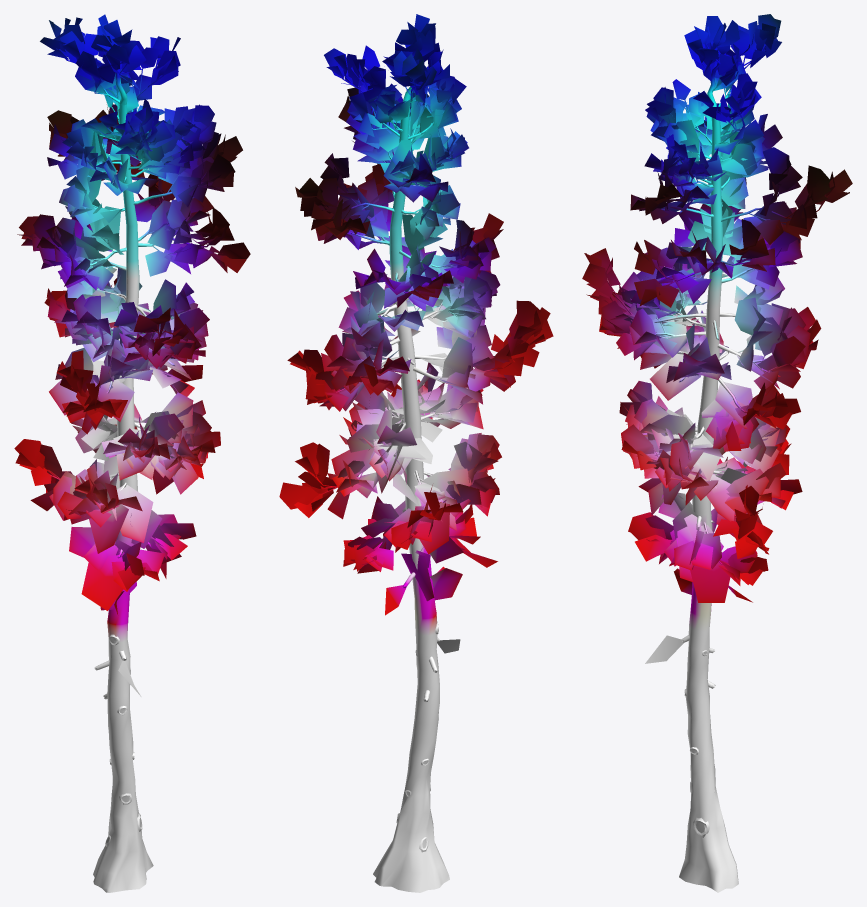
The model's file is arden_forest_conifer_01.fbx.
The picture shows the model from 3 angles, left to right: view 1: azimuth 30°, elevation 25°; view 2: azimuth 150°, elevation 25°; view 3: azimuth 270°, elevation 25°; orthographic projection.
Parts seen in each view (by area): view 1: arden_forest_conifer_01; view 2: arden_forest_conifer_01; view 3: arden_forest_conifer_01.
Boxes of the visible parts, x1,y1,x2,y2 form: arden_forest_conifer_01: [14, 14, 250, 892]; arden_forest_conifer_01: [279, 14, 553, 892]; arden_forest_conifer_01: [582, 14, 852, 892].
Size of the model in its own units: 15.41 by 18.13 by 63.05.
